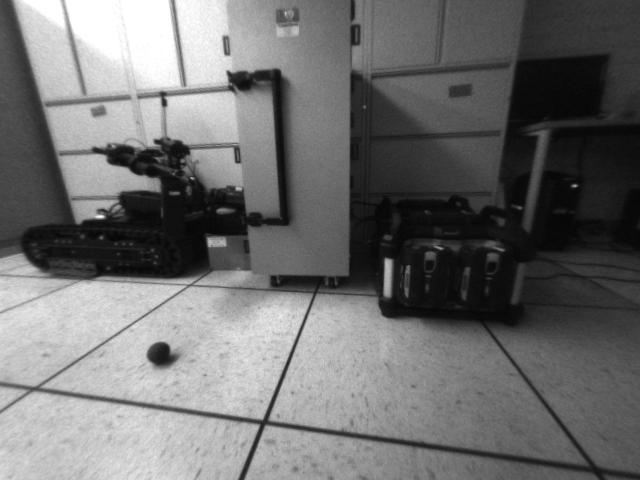dogtoy: (140, 336, 178, 368)
